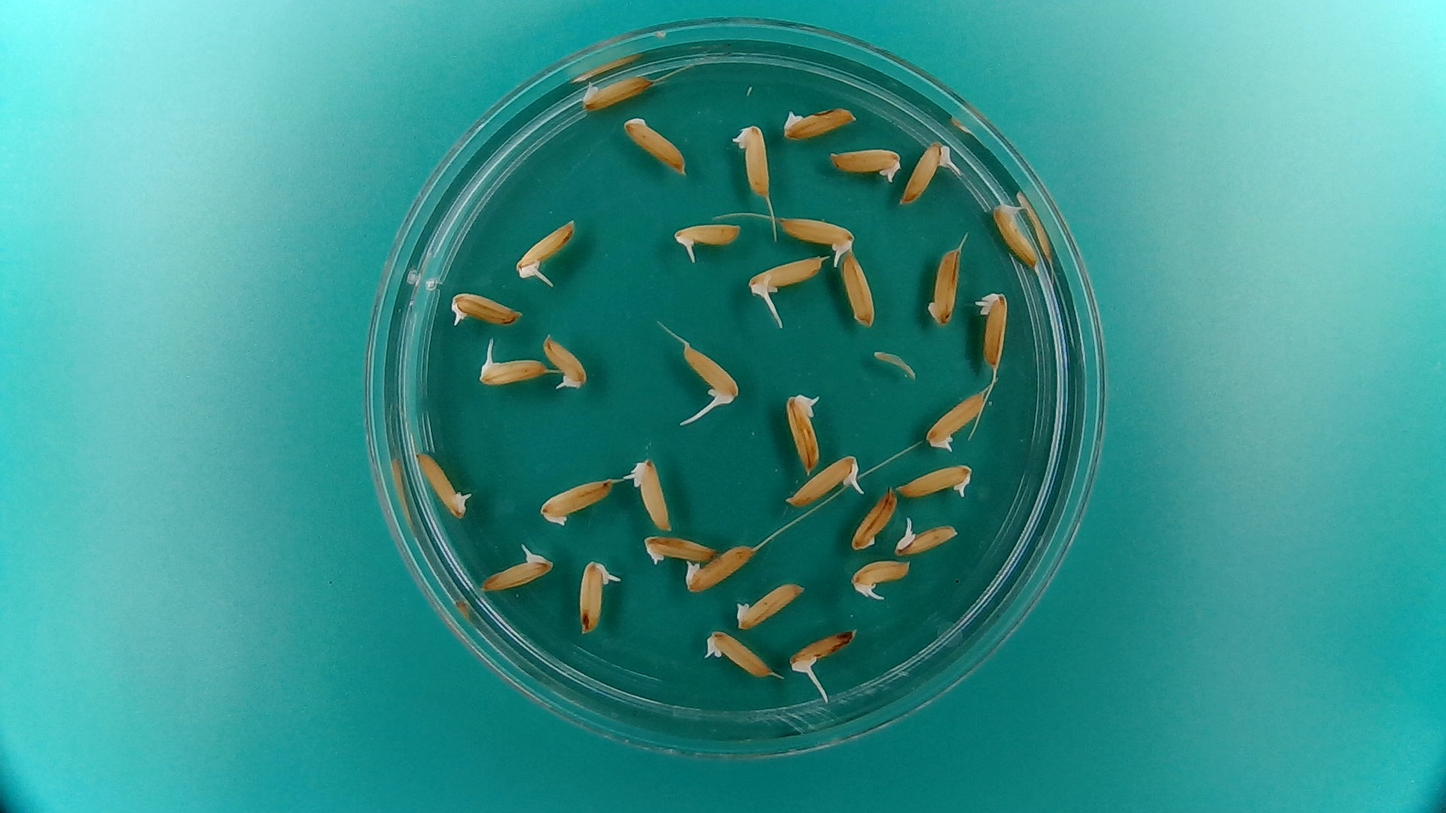no: (619, 113, 691, 177), (535, 473, 616, 528), (733, 577, 808, 632), (849, 480, 898, 553), (825, 143, 904, 187), (836, 248, 878, 330), (779, 101, 859, 144), (924, 245, 962, 331), (640, 531, 721, 565)
yes: (782, 451, 865, 510), (512, 215, 578, 285), (413, 446, 474, 519), (923, 389, 989, 454), (684, 540, 760, 595), (900, 136, 959, 206), (777, 212, 859, 262), (744, 251, 827, 300), (702, 628, 777, 681), (678, 340, 738, 405), (781, 387, 825, 475), (990, 196, 1043, 268), (627, 452, 674, 532), (574, 557, 621, 637), (728, 119, 775, 197), (476, 547, 555, 592), (893, 461, 977, 502), (575, 69, 656, 111), (788, 628, 856, 678), (445, 288, 523, 330), (973, 287, 1011, 372), (541, 331, 591, 391), (670, 216, 744, 255), (848, 556, 914, 598), (893, 516, 960, 556), (477, 354, 549, 385)
